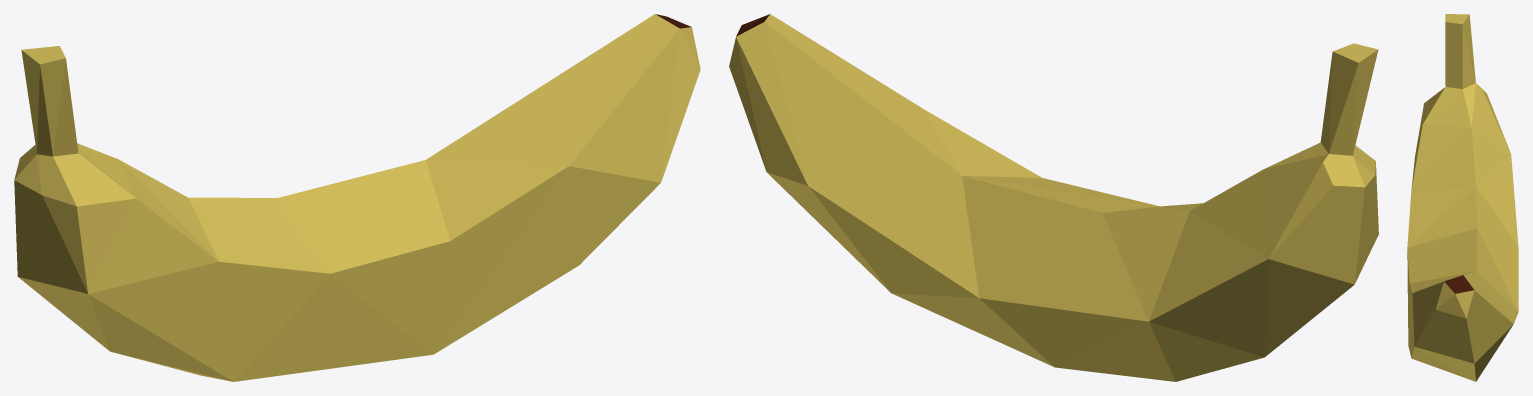
Rendered from bananaOriginal.fbx.
The picture shows the model from 3 angles, left to right: view 1: azimuth 30°, elevation 25°; view 2: azimuth 150°, elevation 25°; view 3: azimuth 270°, elevation 25°; orthographic projection. The views are drawn at different scales.
Parts seen in each view (by area): view 1: Sphere; view 2: Sphere; view 3: Sphere.
Part boxes in pixels (x1,y1,x2,y2): Sphere: (14,14,700,381); Sphere: (729,14,1378,381); Sphere: (1407,14,1518,381).
Bounding box in the file's own units: 961 × 537 × 223.
